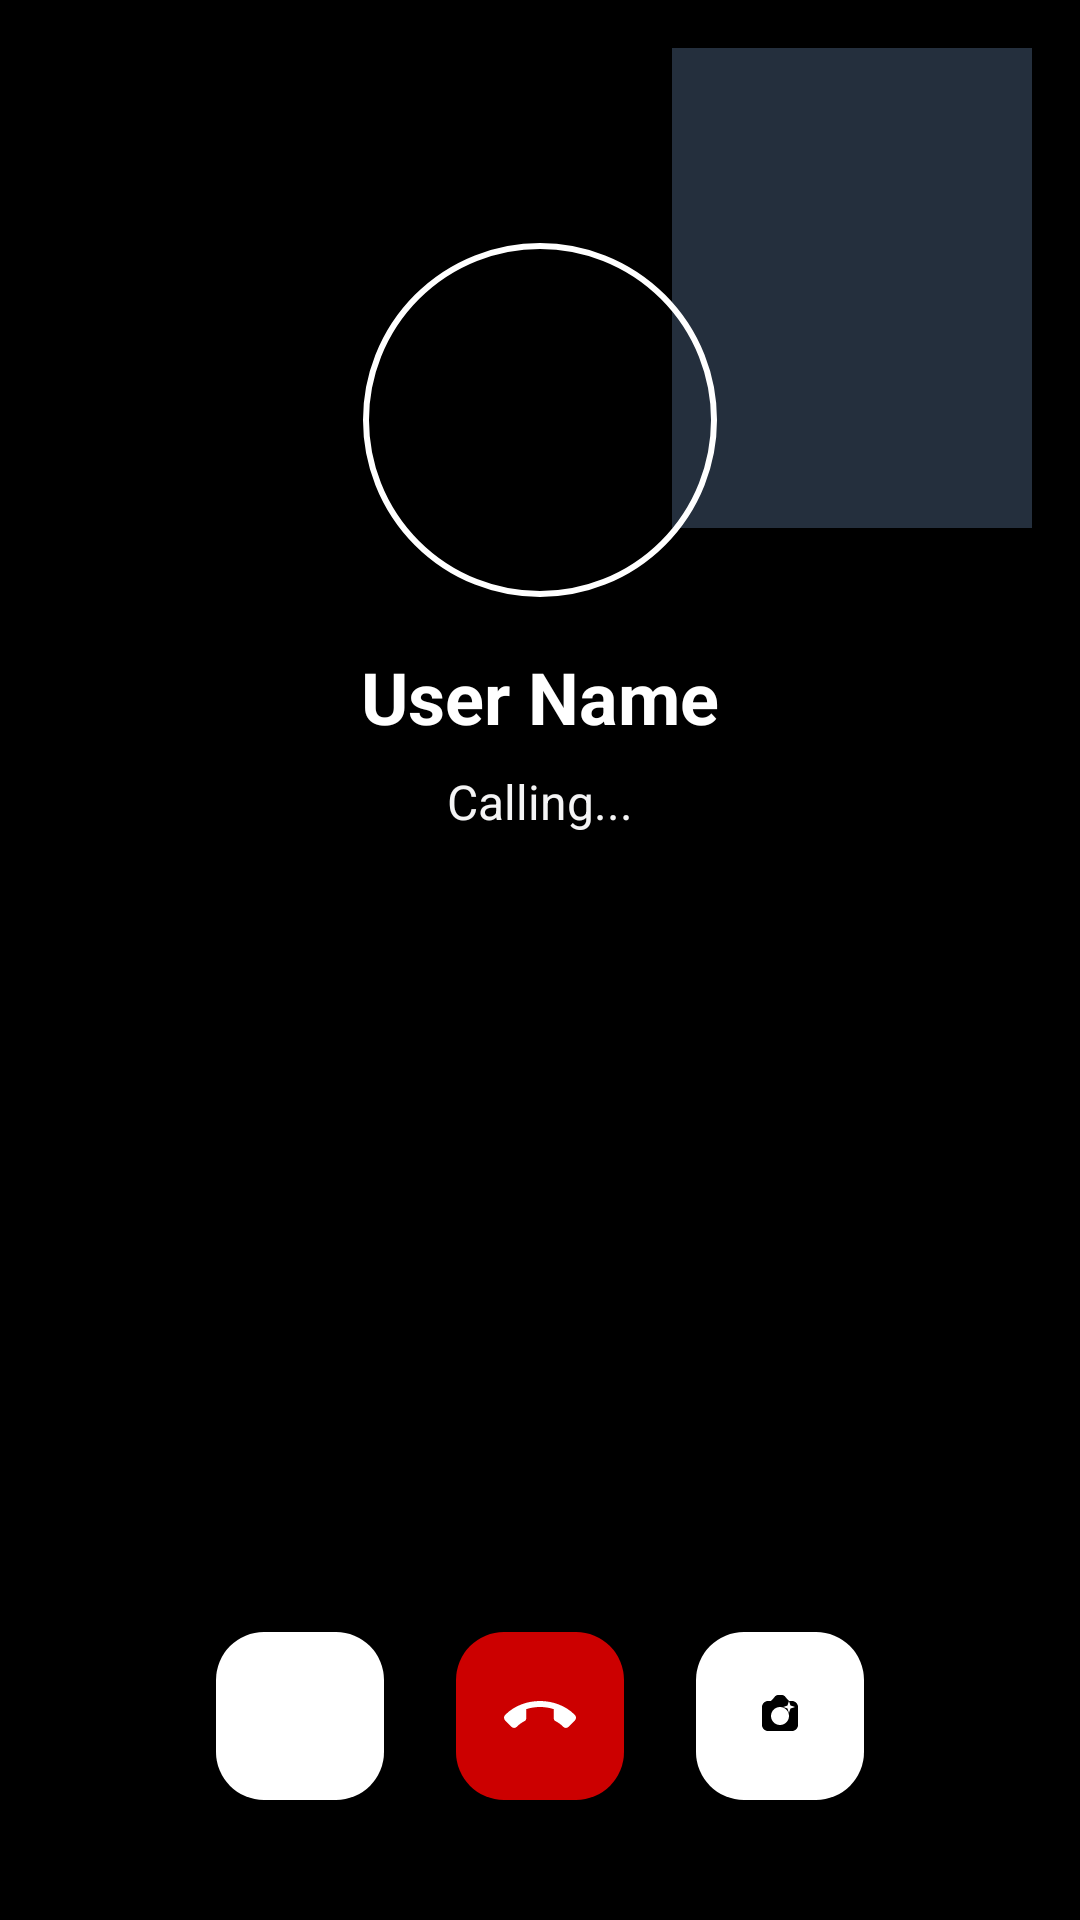

Where icons sit on this 1080px x 1920px app screen, as (x1, y1, x2, y2):
call end: (456, 1632, 624, 1800)
camera switch: (696, 1632, 864, 1800)
